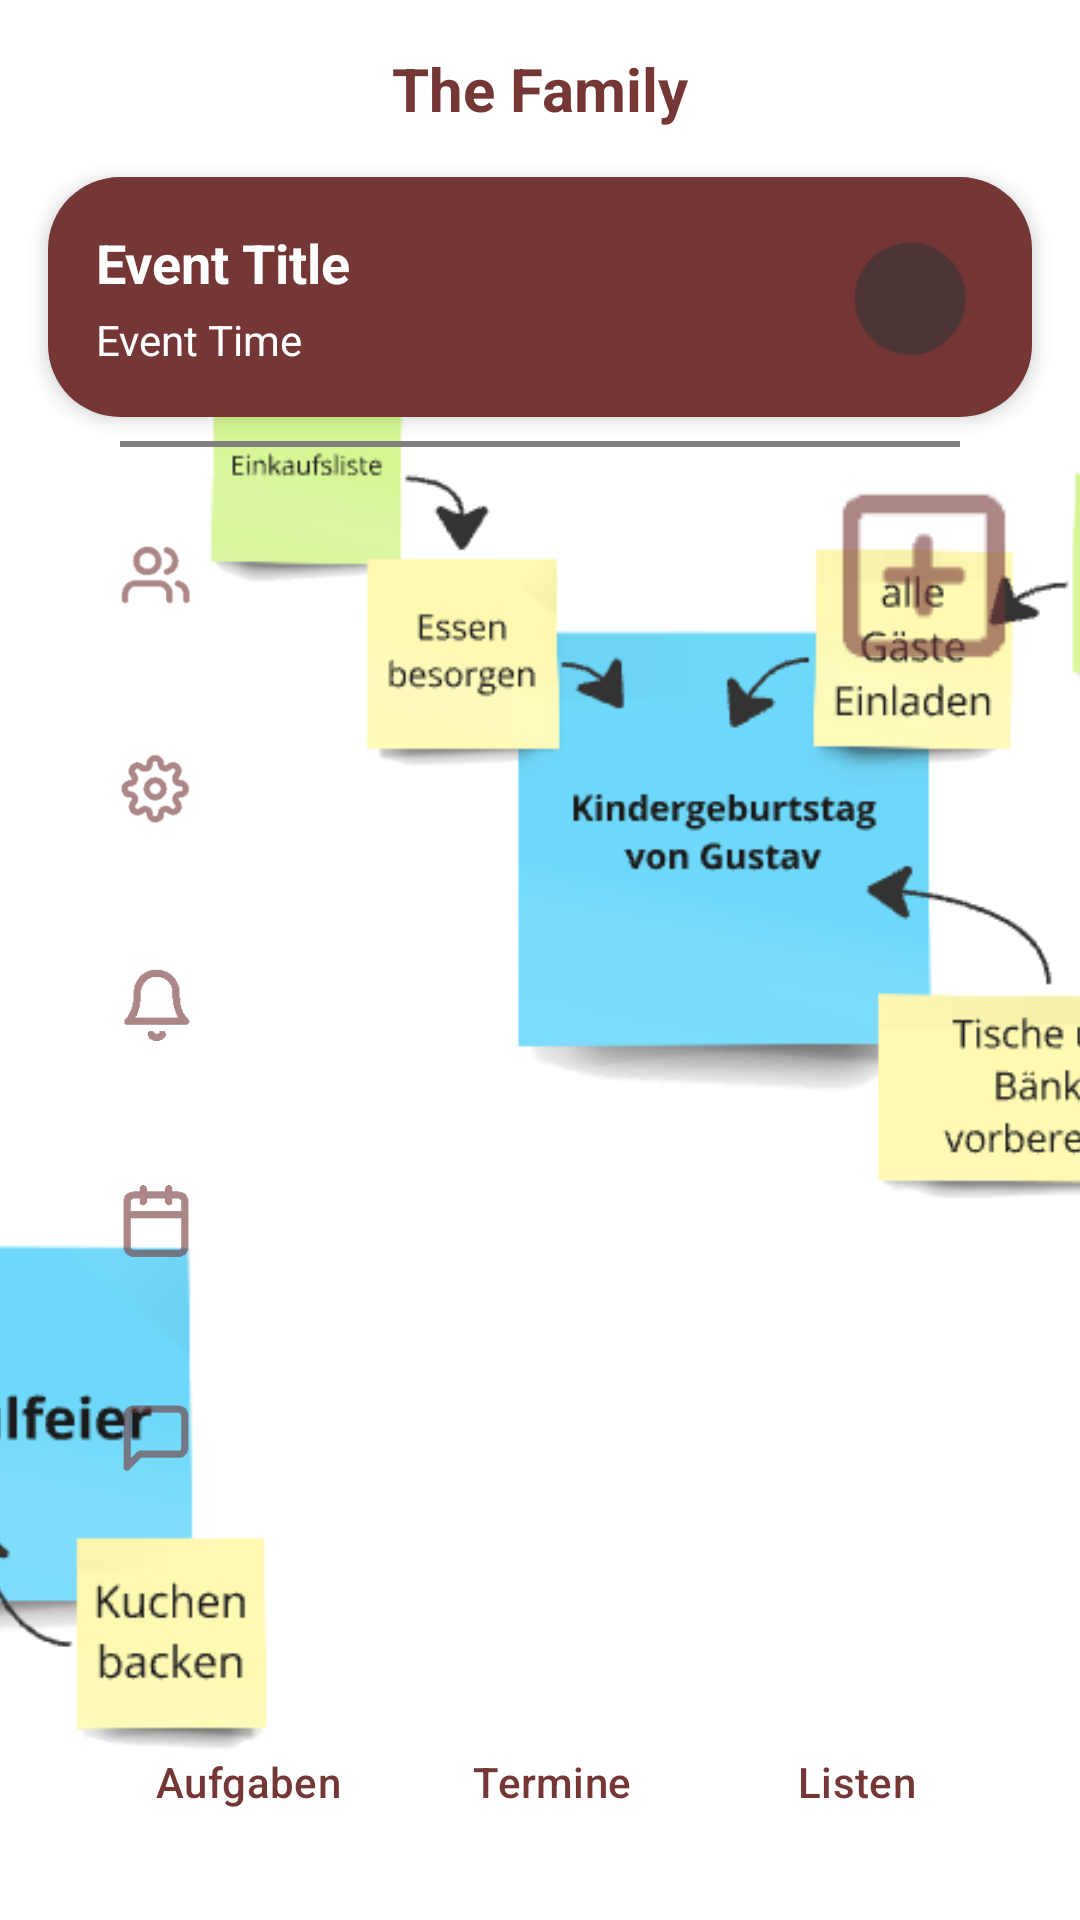

Locate icon controls on the screen. Image size 1080px x 1920px, boxes as (x1, y1, x2, y2).
Benachrichtigungen: (124, 970, 190, 1041)
Einstellungen: (121, 755, 189, 823)
